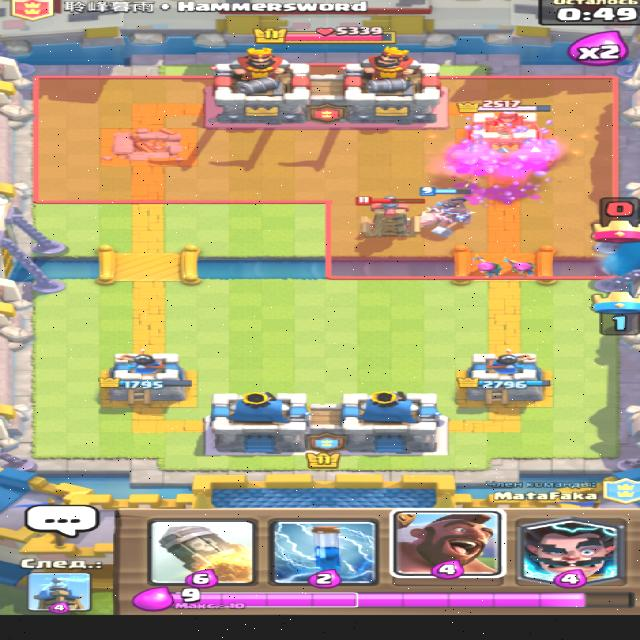Enemy-Tesla: (353, 194, 425, 238)
Player-Archer: (470, 254, 502, 278), (501, 256, 535, 278)
Player-HogRider: (416, 185, 472, 238)
